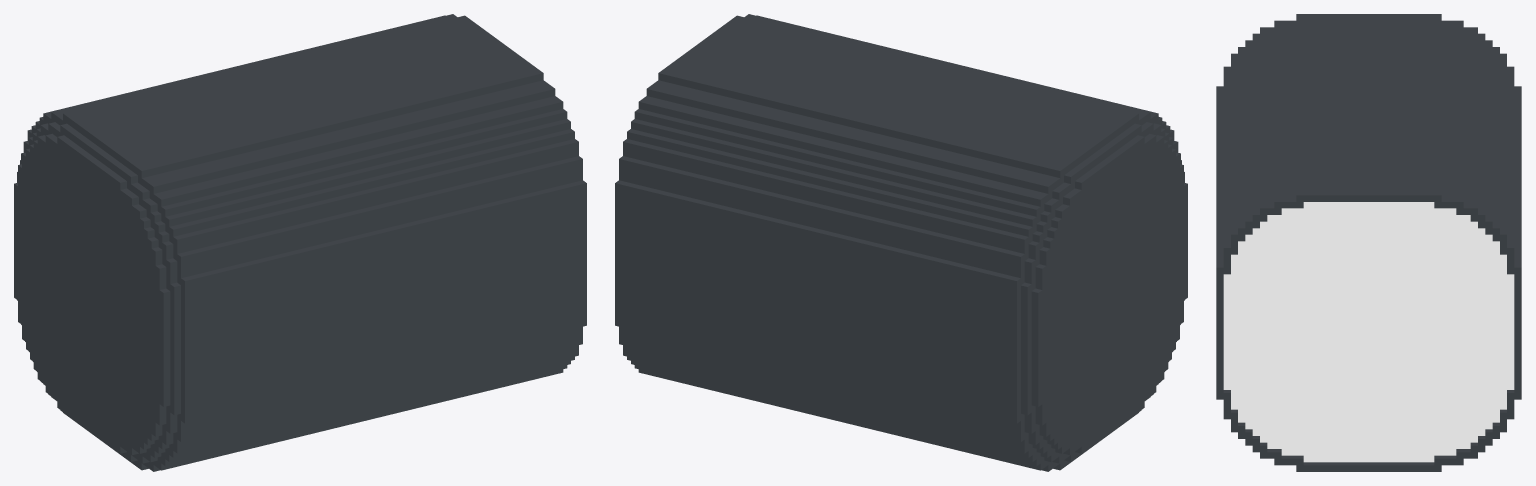
Rendered from 聚光灯.gltf.
The picture shows the model from 3 angles, left to right: view 1: azimuth 30°, elevation 25°; view 2: azimuth 150°, elevation 25°; view 3: azimuth 270°, elevation 25°; orthographic projection. The views are drawn at different scales.
Parts seen in each view (by area): view 1: Object; view 2: Object; view 3: Object.
Part boxes in pixels (x1,y1,x2,y2): Object: [14, 14, 586, 471]; Object: [615, 14, 1187, 471]; Object: [1216, 14, 1521, 471].
Size of the model in its own units: 61 by 42 by 42.
1 material, 1 textured.
